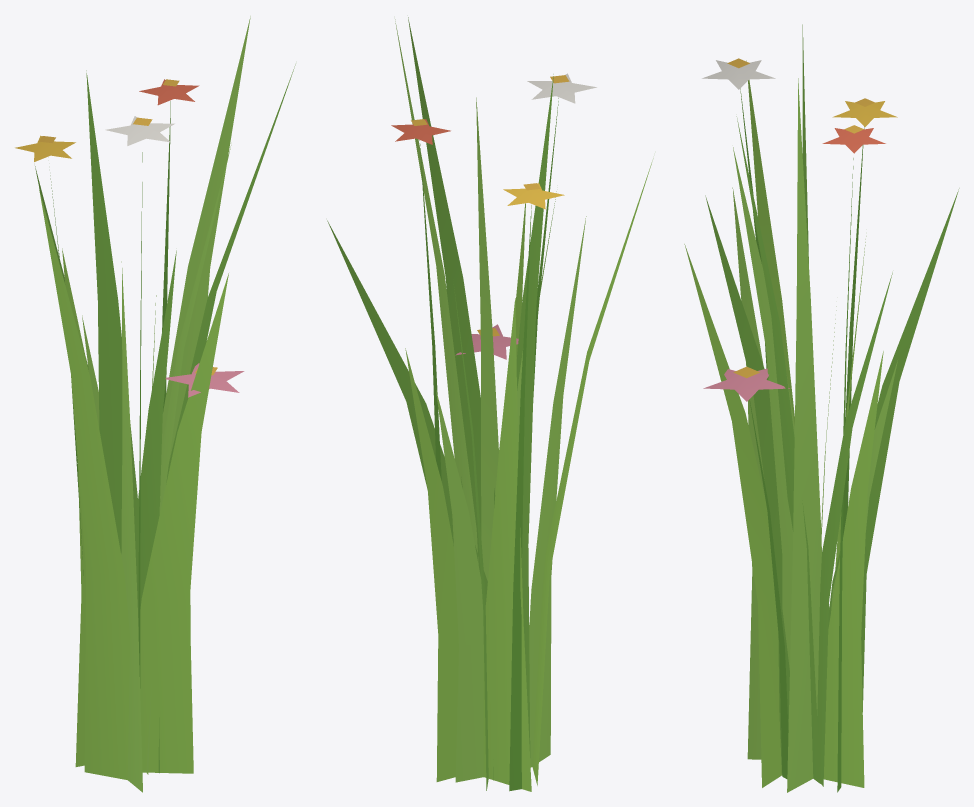
File: meadow_flowers.glb
3 views of the same model, side by side, from view 1: azimuth 30°, elevation 25°; view 2: azimuth 150°, elevation 25°; view 3: azimuth 270°, elevation 25° (orthographic). The views are drawn at different scales.
Parts seen in each view (by area): view 1: body; view 2: body; view 3: body.
Part boxes in pixels (<box>): body: <box>15,16,295,792</box>; body: <box>327,17,653,791</box>; body: <box>684,24,959,792</box>.
Bounding box in the file's own units: 0.3302 × 0.8875 × 0.2966.
